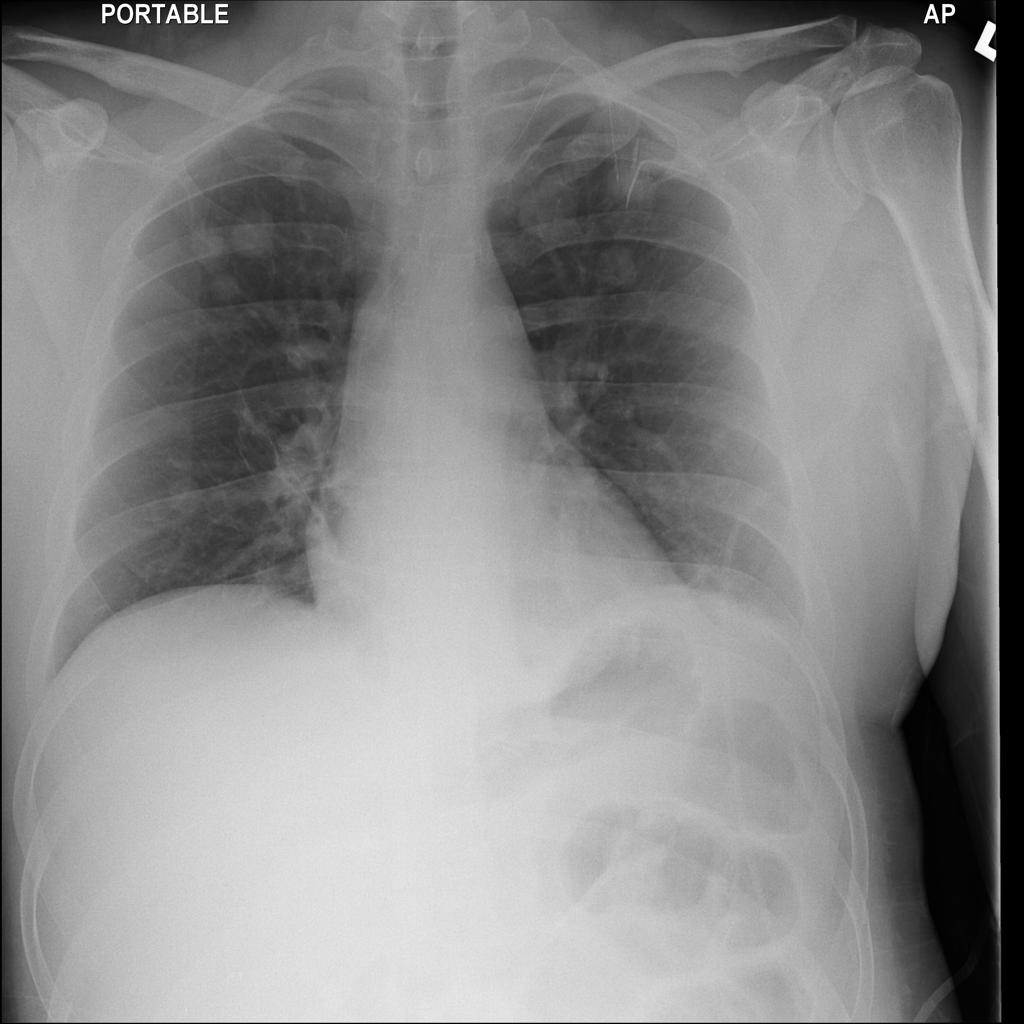nodule: (597, 145, 676, 214), (181, 205, 254, 275), (582, 232, 653, 303), (148, 460, 217, 529), (222, 196, 286, 267), (266, 143, 320, 195), (199, 265, 255, 313)
